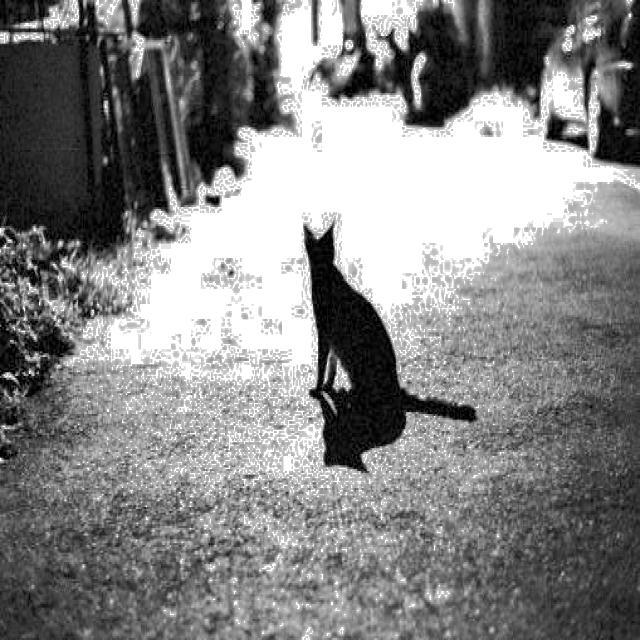Car: (511, 0, 640, 216)
Cat: (296, 214, 401, 417)
